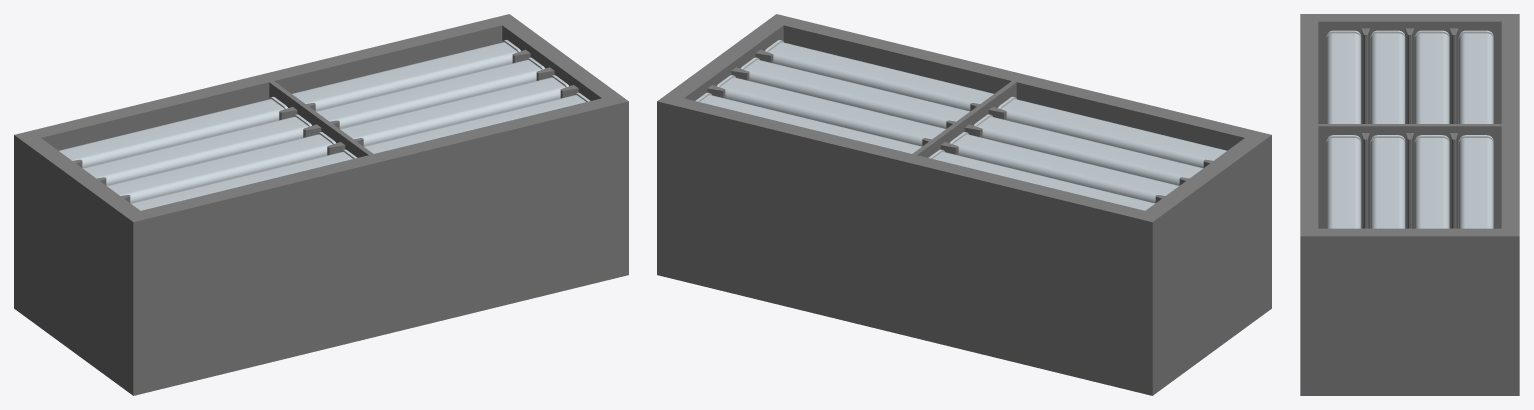
The model's file is Cassette_Box_V2.fbx.
3 renders of one model, left to right at view 1: azimuth 30°, elevation 25°; view 2: azimuth 150°, elevation 25°; view 3: azimuth 270°, elevation 25°, orthographic. The views are drawn at different scales.
Parts seen in each view (by area): view 1: Box_V2, Cassette_3, Cassette_7, Cassette_2, Cassette_6, Cassette_4, Cassette_8, Cassette_1, Cassette_5; view 2: Box_V2, Cassette_2, Cassette_6, Cassette_7, Cassette_1, Cassette_3, Cassette_5, Cassette_4, Cassette_8; view 3: Box_V2, Cassette_6, Cassette_7, Cassette_5, Cassette_8, Cassette_1, Cassette_2, Cassette_3, Cassette_4.
Part boxes in pixels (box(x1,y1,x2,y2)): Box_V2: box(14, 14, 628, 395); Cassette_3: box(83, 114, 311, 185); Cassette_7: box(316, 57, 544, 128); Cassette_2: box(107, 132, 335, 203); Cassette_6: box(340, 75, 568, 146); Cassette_4: box(59, 96, 287, 168); Cassette_8: box(292, 40, 520, 111); Cassette_1: box(131, 149, 357, 210); Cassette_5: box(364, 92, 590, 153); Box_V2: box(657, 14, 1271, 395); Cassette_2: box(974, 114, 1202, 185); Cassette_6: box(741, 57, 969, 128); Cassette_7: box(717, 75, 945, 146); Cassette_1: box(998, 96, 1226, 168); Cassette_3: box(950, 132, 1178, 203); Cassette_5: box(765, 40, 993, 111); Cassette_4: box(928, 149, 1154, 210); Cassette_8: box(695, 92, 921, 153); Box_V2: box(1300, 14, 1519, 395); Cassette_6: box(1370, 135, 1405, 228); Cassette_7: box(1414, 135, 1449, 228); Cassette_5: box(1326, 135, 1361, 228); Cassette_8: box(1458, 135, 1493, 228); Cassette_1: box(1326, 30, 1361, 123); Cassette_2: box(1370, 30, 1405, 123); Cassette_3: box(1414, 30, 1449, 123); Cassette_4: box(1458, 30, 1493, 123).
Size of the model in its own units: 23.95 by 8.03 by 9.99.
